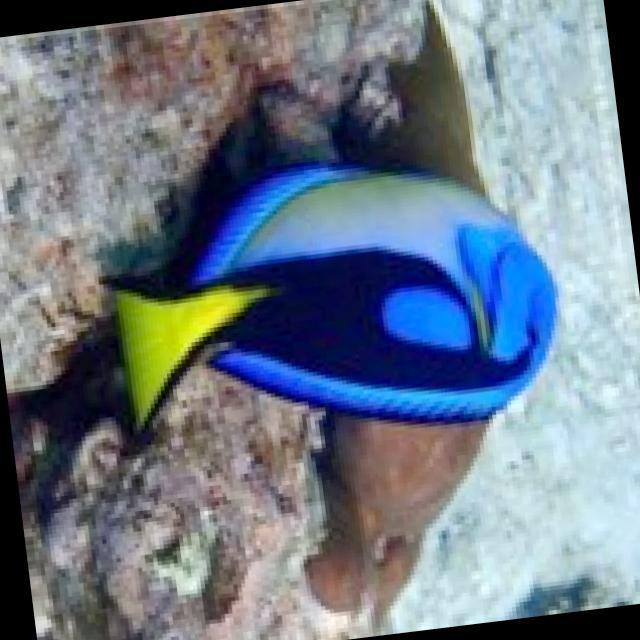TangFish: (101, 132, 568, 458)
